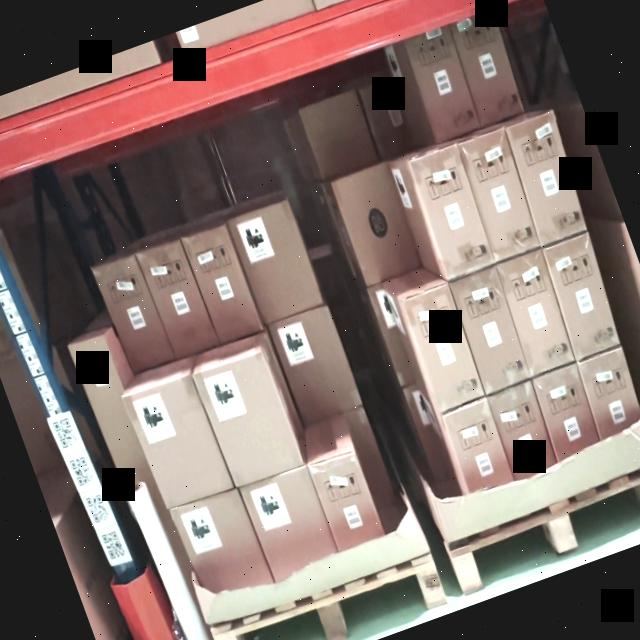box: (194, 352, 304, 489), (124, 372, 230, 508), (170, 484, 274, 606), (228, 201, 324, 323), (269, 304, 362, 424), (332, 163, 423, 285), (492, 251, 580, 375), (244, 469, 340, 582), (410, 146, 493, 274), (508, 110, 586, 245), (448, 268, 532, 392), (460, 130, 540, 260), (402, 285, 485, 410), (544, 233, 619, 360), (138, 240, 218, 356), (183, 226, 262, 343), (95, 255, 174, 372), (403, 28, 480, 142), (453, 10, 524, 124), (309, 448, 384, 550), (301, 90, 378, 179), (488, 382, 558, 478), (533, 364, 600, 462), (442, 401, 514, 491), (579, 348, 640, 441), (360, 81, 415, 160)
